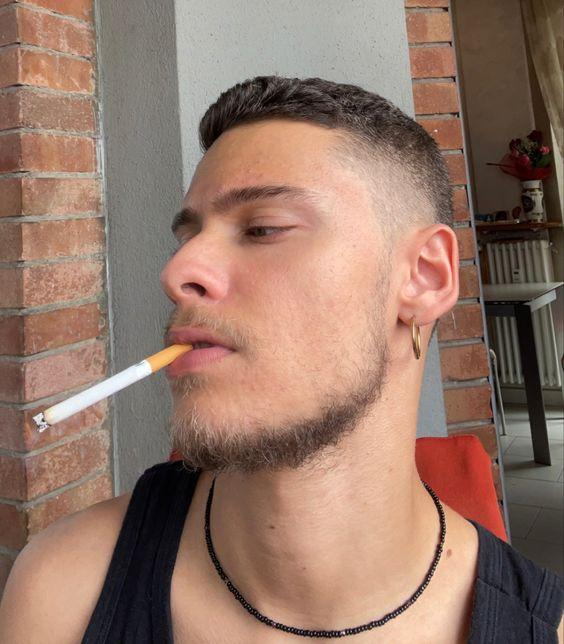cigarette: (32, 343, 194, 433)
